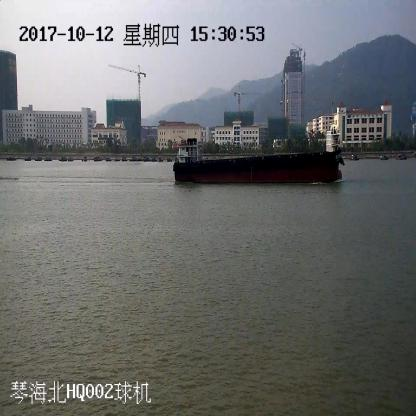Bulk Carrier: (174, 121, 344, 184)
